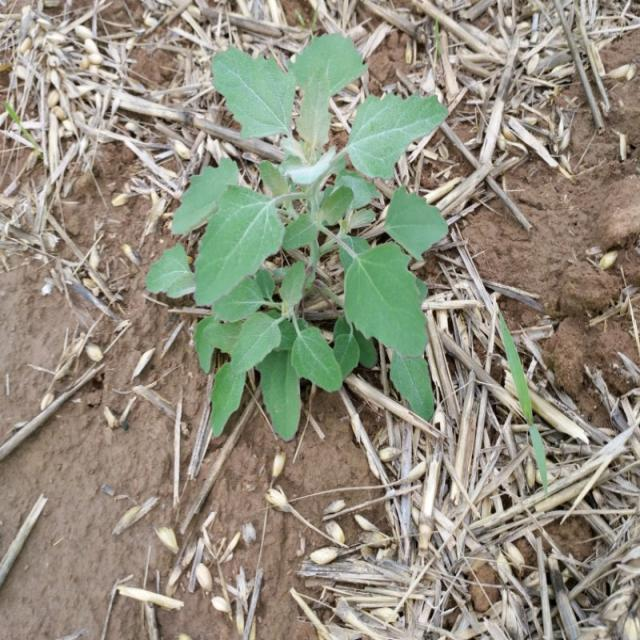goosefoots: (162, 33, 459, 397)
